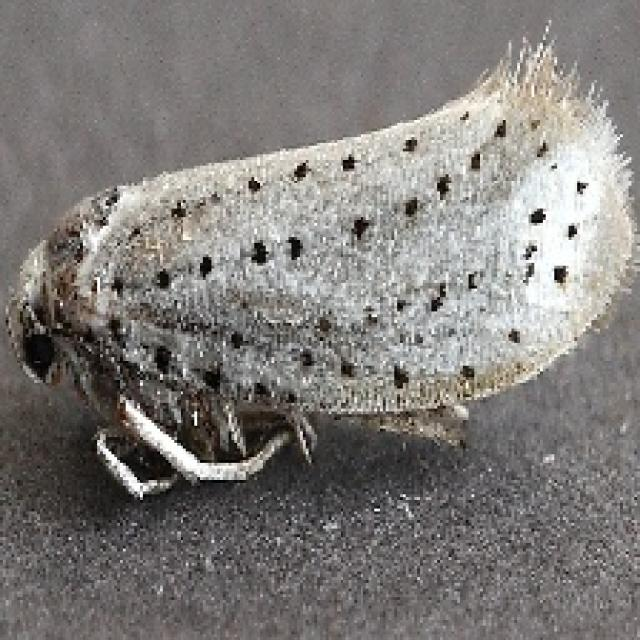butterfly: (3, 17, 637, 503)
